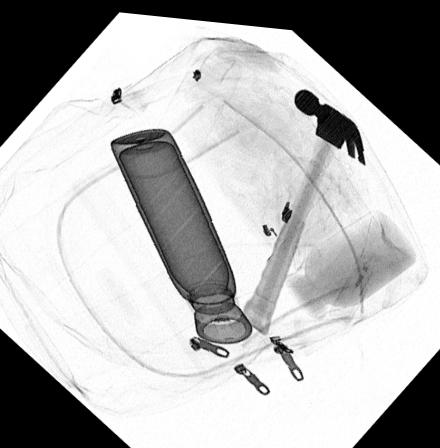Hammer: (238, 81, 366, 330)
